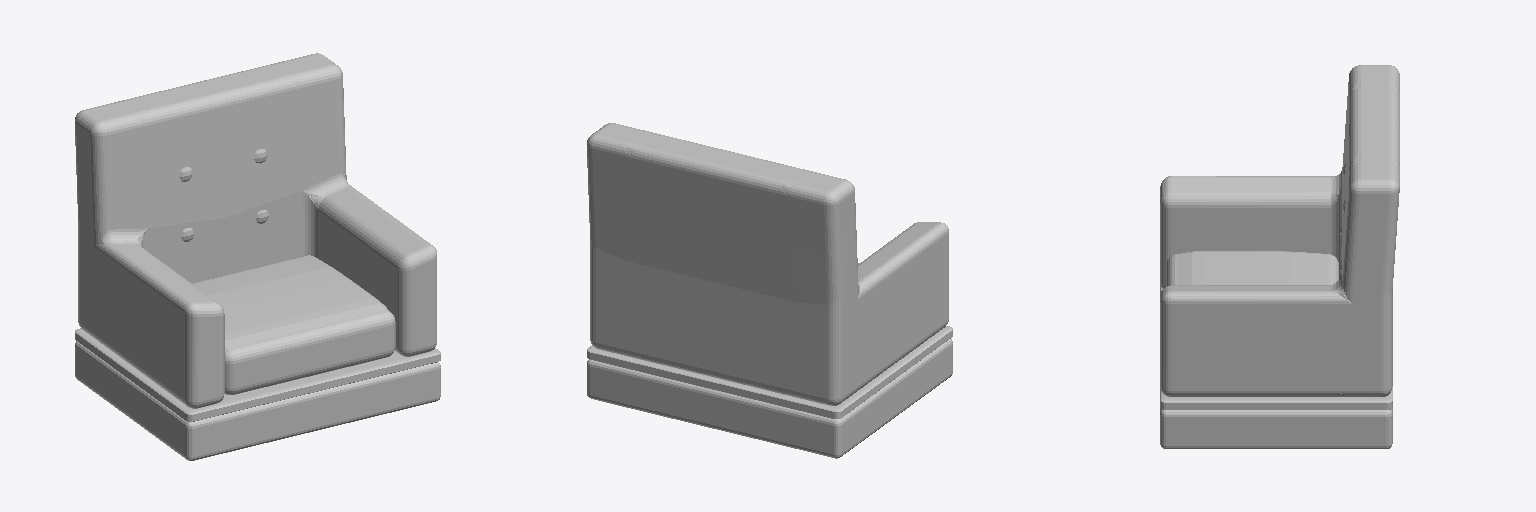
The model's file is ComfyChair.obj.
3 views of the same model, side by side, from view 1: azimuth 30°, elevation 25°; view 2: azimuth 150°, elevation 25°; view 3: azimuth 270°, elevation 25° (orthographic).
Visible parts, largest first — view 1: Cube.002_Cube.004, Sphere; view 2: Cube.002_Cube.004; view 3: Cube.002_Cube.004.
Boxes of the visible parts, <box> form: Cube.002_Cube.004: <box>75,53,440,460</box>; Sphere: <box>179,149,268,241</box>; Cube.002_Cube.004: <box>587,123,952,458</box>; Cube.002_Cube.004: <box>1160,65,1399,448</box>.
Bounding box in the file's own units: 2 × 2 × 1.63.